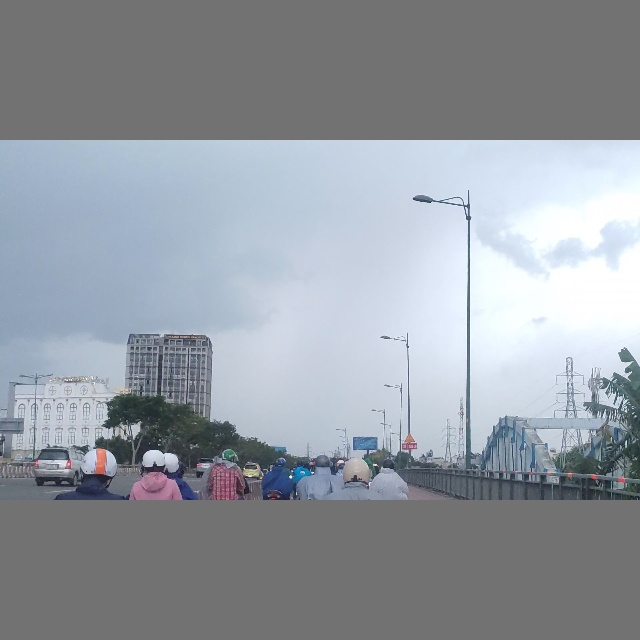W.245a: (404, 432, 416, 443)
